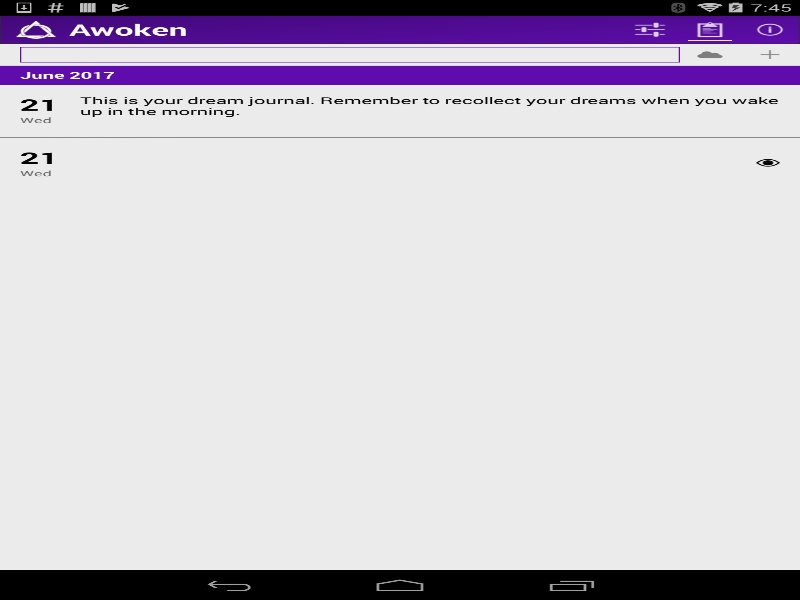Input: (20, 46, 680, 62)
